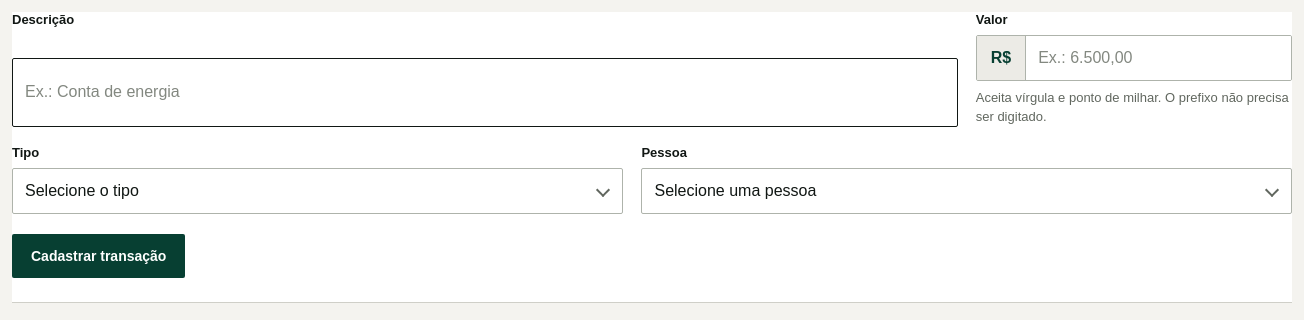
Test: TransactionForm › exige descrição
Type "100" into the field labelled "Valor".
click(1159, 58); type("100")  # box [1026,36,1291,80]
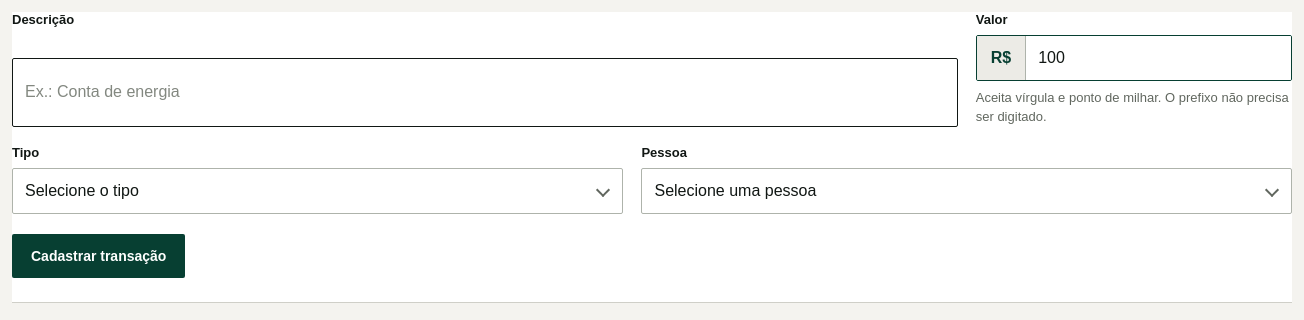
Select "Mariana Freitas - 28 anos" in the dropdown labelled "Pessoa" at (967, 191), box [642,168,1292,214]
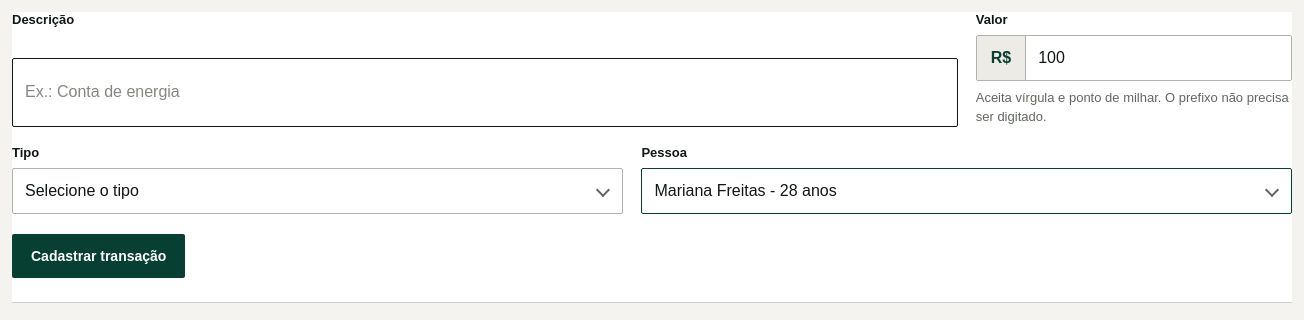
Select "Despesa" in the dropdown labelled "Tipo" at (318, 191), box [12,168,624,214]
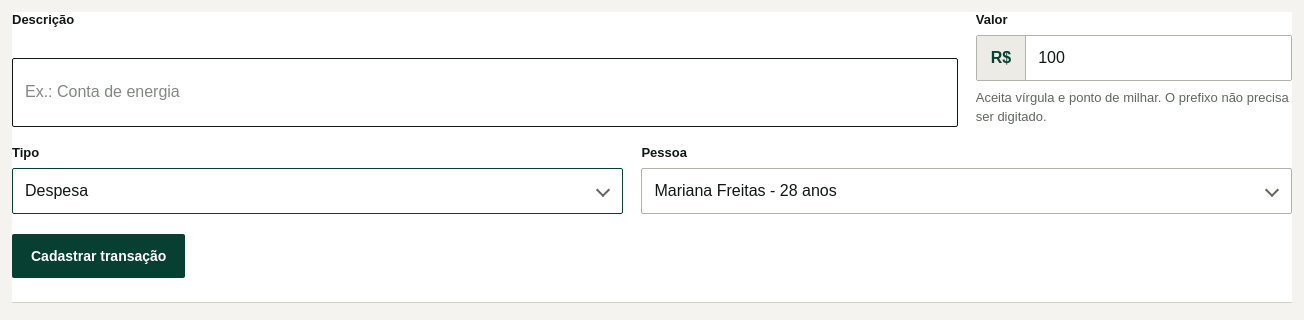
Click the button "Cadastrar transação".
click(99, 256)  # box [12,234,185,278]
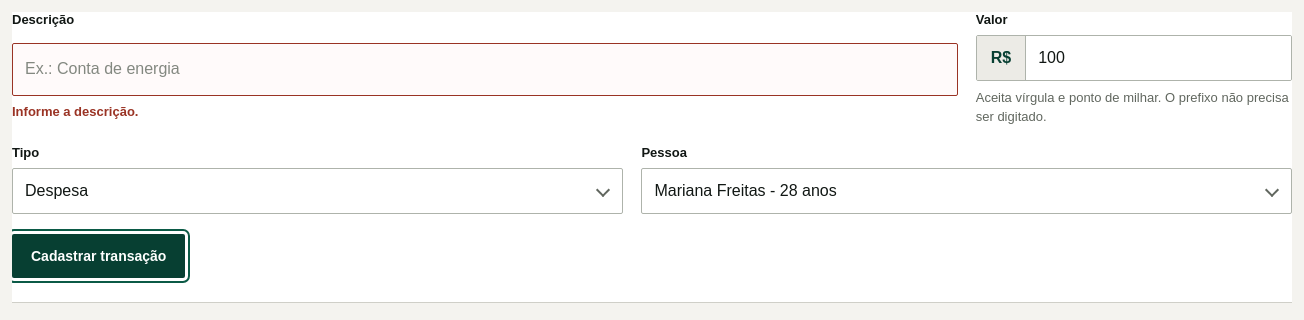
Now the text "Informe a descrição." is shown, box [12,104,138,119]
